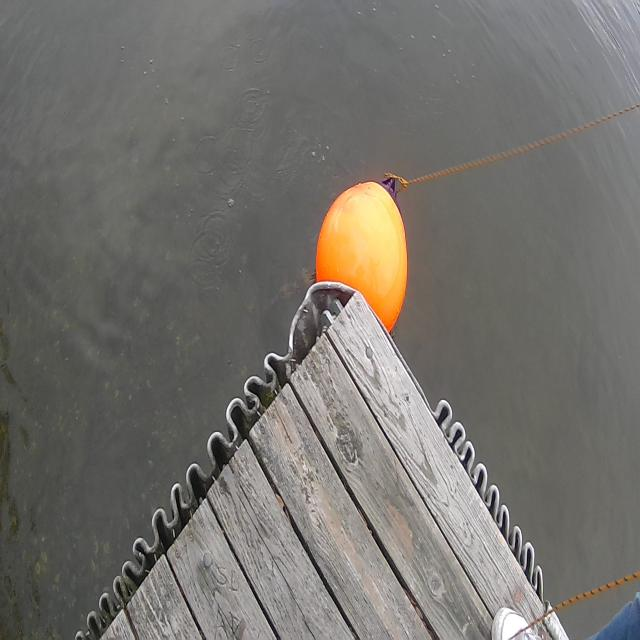Buoy: (303, 128, 416, 344)
